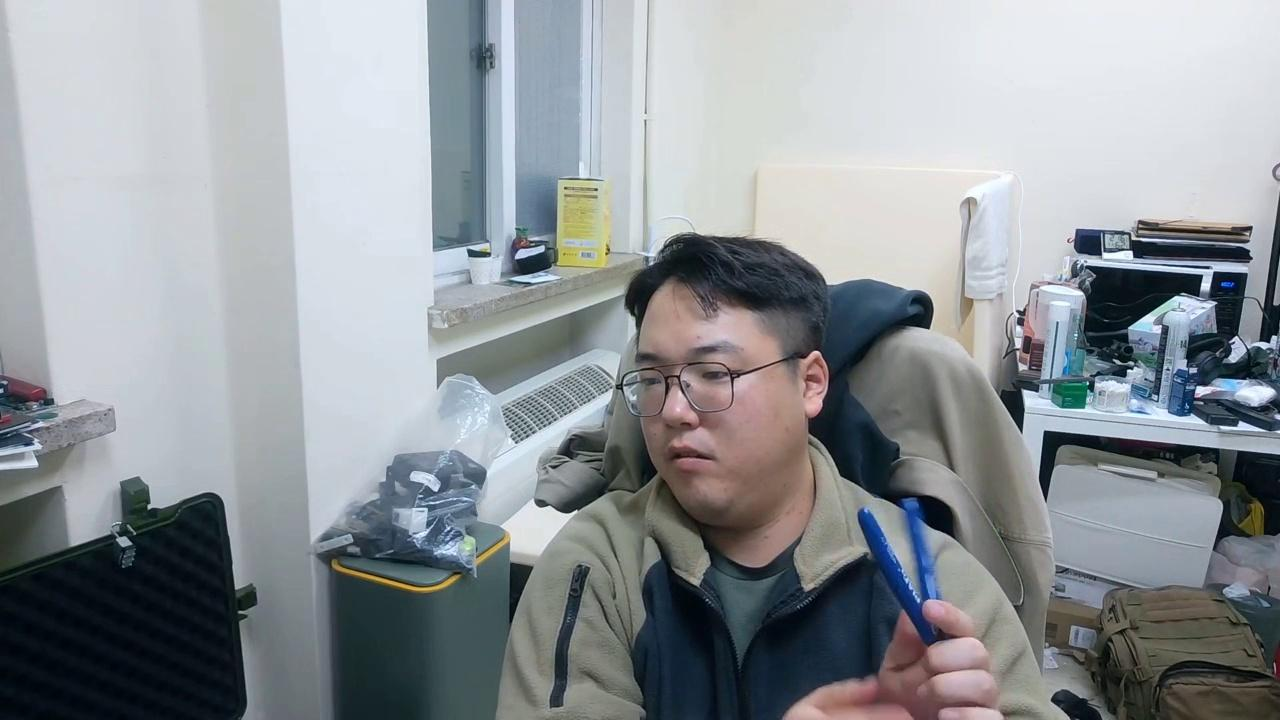blue_pliers: (856, 505, 943, 648)
